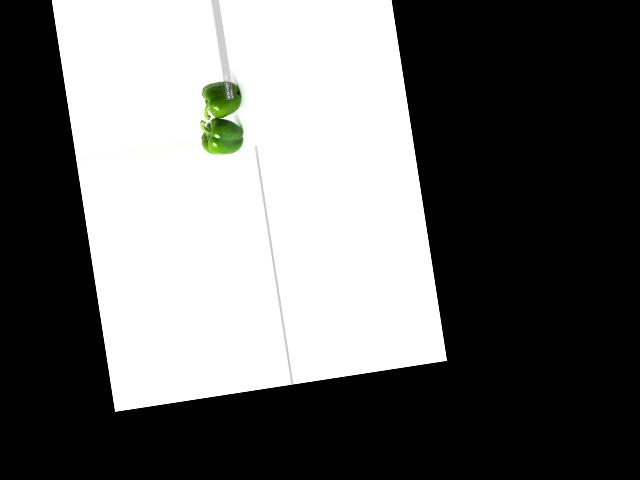bell_pepper: (195, 114, 251, 157)
